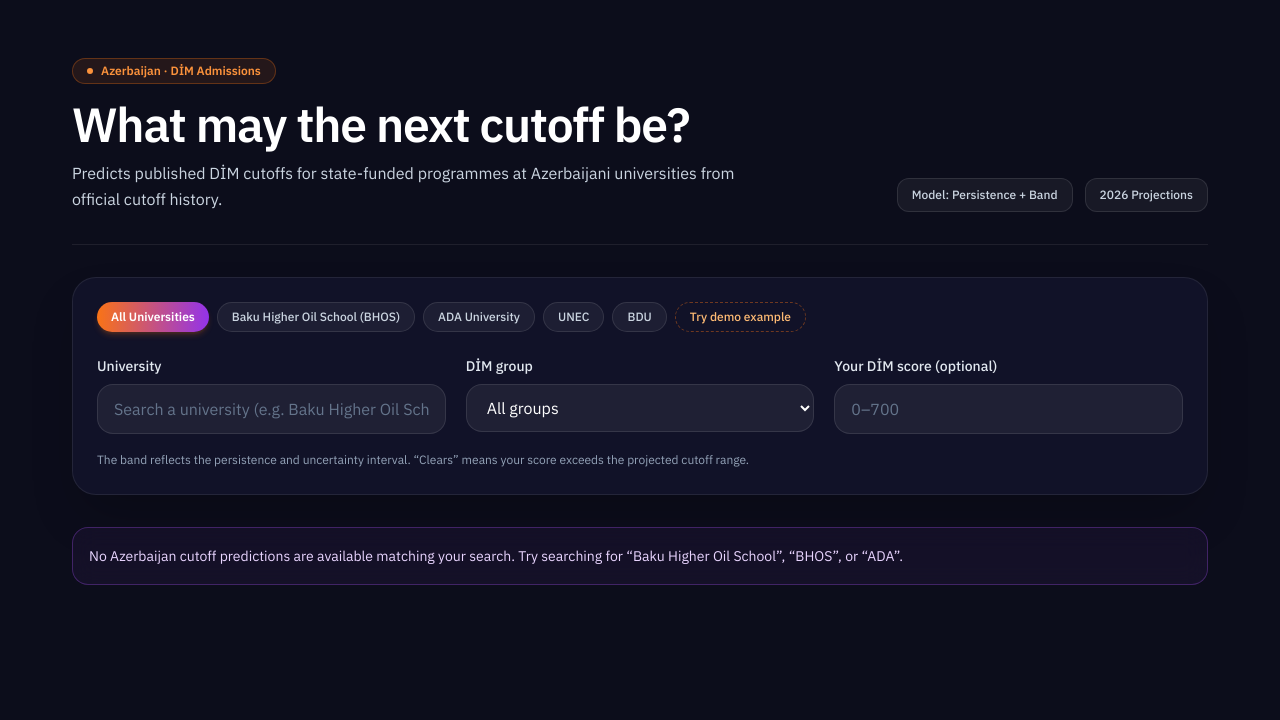
Test: AzerbaijanPage › fills the demo university, group and score, and loads that filter
Click the button "Try demo example" at (740, 317), box [675, 302, 806, 332]
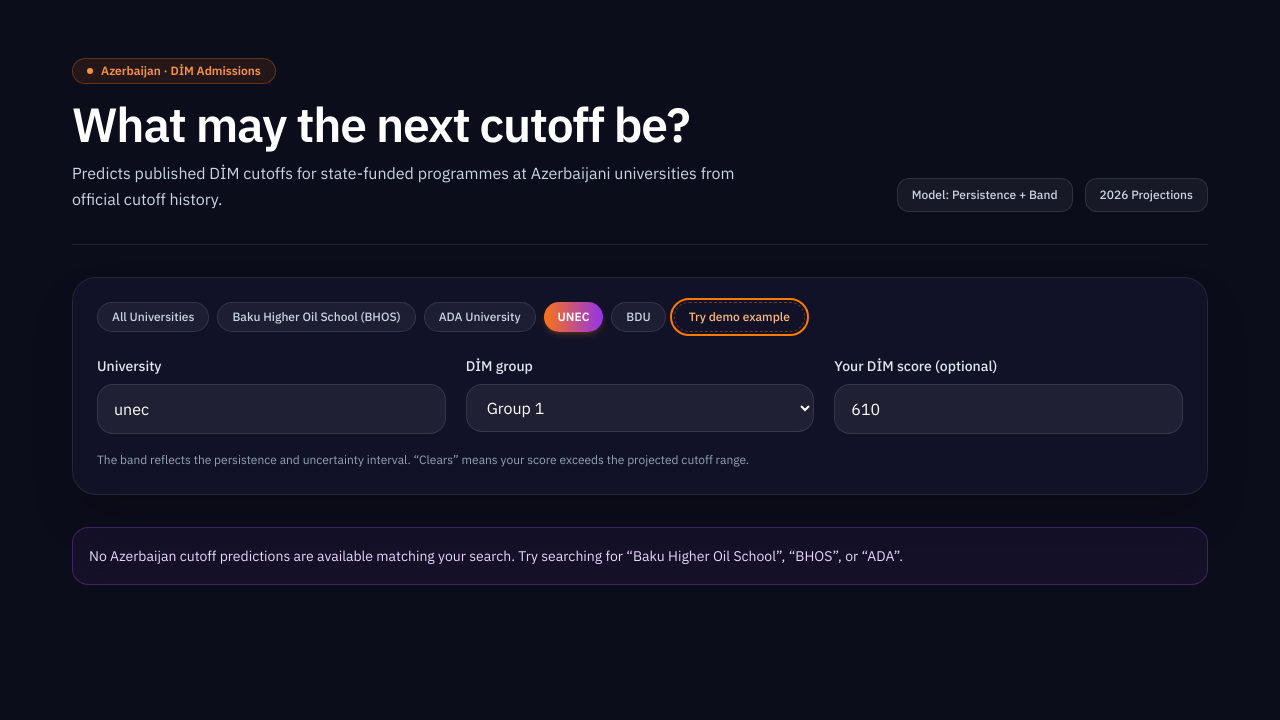
expect the field labelled "University" holds "unec": met, box [97, 384, 446, 434]
expect the dropdown labelled "DİM group" shows "Group 1": met, box [466, 384, 814, 432]
expect the number field labelled "Your DİM score (optional)" holds "610": met, box [834, 384, 1183, 434]
